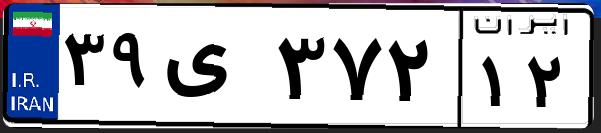1: (475, 38, 525, 113)
2: (385, 28, 445, 110), (525, 38, 570, 115)
3: (270, 28, 330, 110), (57, 26, 110, 100)
7: (330, 28, 385, 110)
9: (110, 28, 158, 98)
ی: (158, 20, 270, 120)
